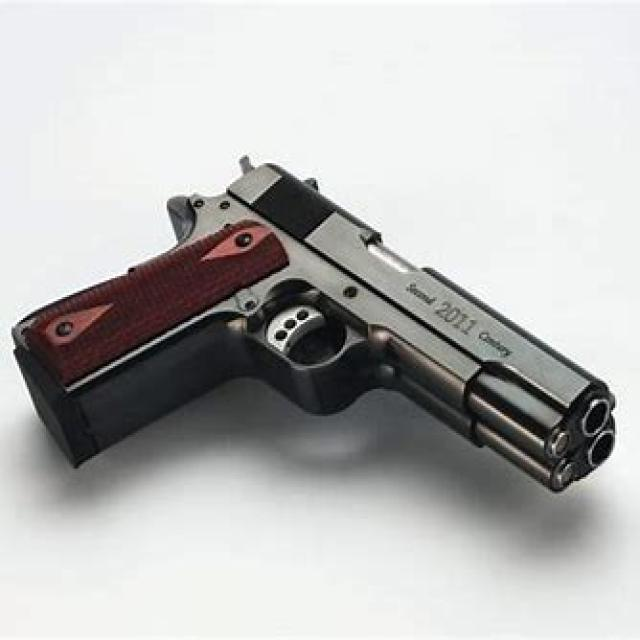Pistol: (9, 131, 639, 542)
